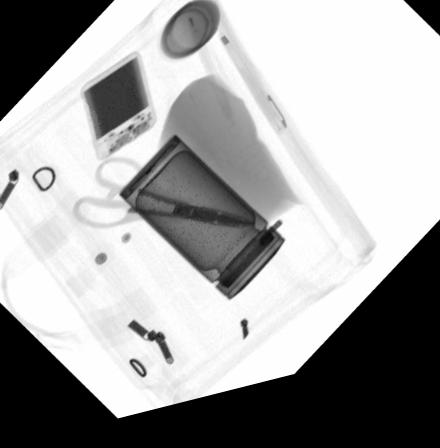Powerbank: (79, 57, 158, 163)
Scissors: (73, 161, 259, 239)
